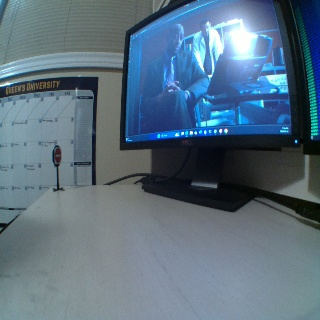sign_noentry: (53, 146, 61, 163)
